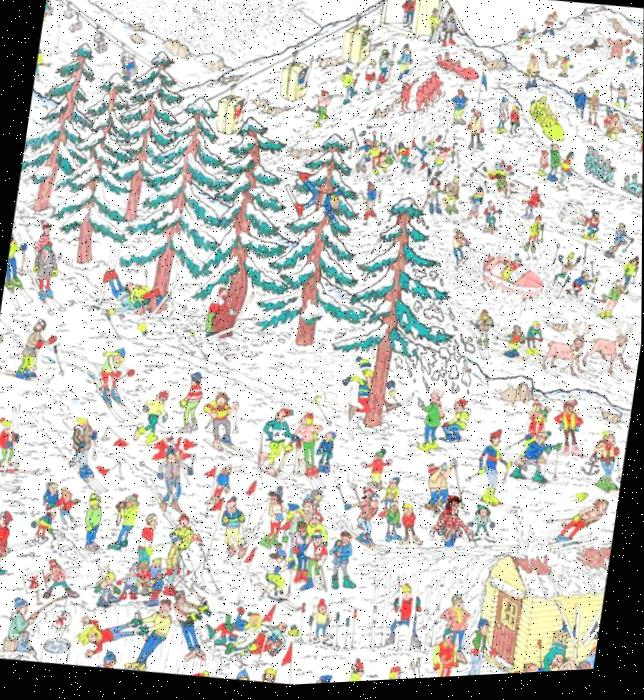waldo: (445, 500, 462, 519)
